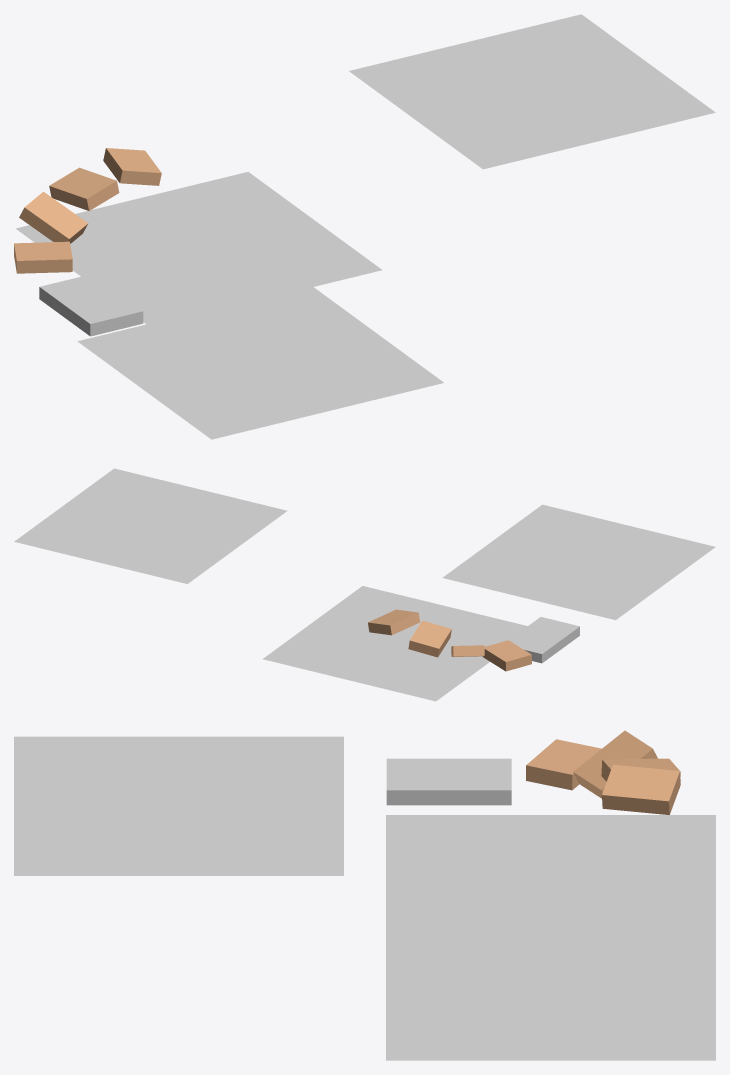
Rendered from demo-scene.glb.
The picture shows the model from 3 angles, top to bottom: view 1: azimuth 30°, elevation 25°; view 2: azimuth 150°, elevation 25°; view 3: azimuth 270°, elevation 25°; orthographic projection. The views are drawn at different scales.
Visible parts, largest first — view 1: Platform_2, Platform_3, Platform_1, Step_0, Step_2, Step_3, Step_1, Step_4; view 2: Platform_2, Platform_3, Platform_1, Step_0, Step_3, Step_1, Step_4, Step_2; view 3: Platform_2, Platform_3, Platform_1, Step_0, Step_4, Step_1, Step_2, Step_3.
Boxes of the visible parts, x1,y1,x2,y2 form: Platform_2: (77, 284, 443, 439); Platform_3: (349, 14, 715, 169); Platform_1: (15, 172, 382, 324); Step_0: (39, 274, 143, 336); Step_2: (19, 191, 88, 243); Step_3: (49, 167, 119, 210); Step_1: (14, 241, 72, 273); Step_4: (103, 148, 161, 185); Platform_2: (442, 504, 715, 620); Platform_3: (14, 468, 287, 583); Platform_1: (262, 586, 527, 701); Step_0: (509, 617, 579, 663); Step_3: (408, 620, 451, 657); Step_1: (482, 640, 531, 671); Step_4: (368, 609, 419, 635); Step_2: (451, 645, 484, 656); Platform_2: (14, 736, 343, 875); Platform_3: (386, 921, 715, 1060); Platform_1: (386, 815, 715, 920); Step_0: (386, 758, 511, 805); Step_4: (602, 764, 680, 814); Step_1: (526, 739, 601, 790); Step_2: (573, 730, 657, 798); Step_3: (601, 758, 680, 781).
Bounding box in the file's own units: 27.04 × 3 × 20.42.
